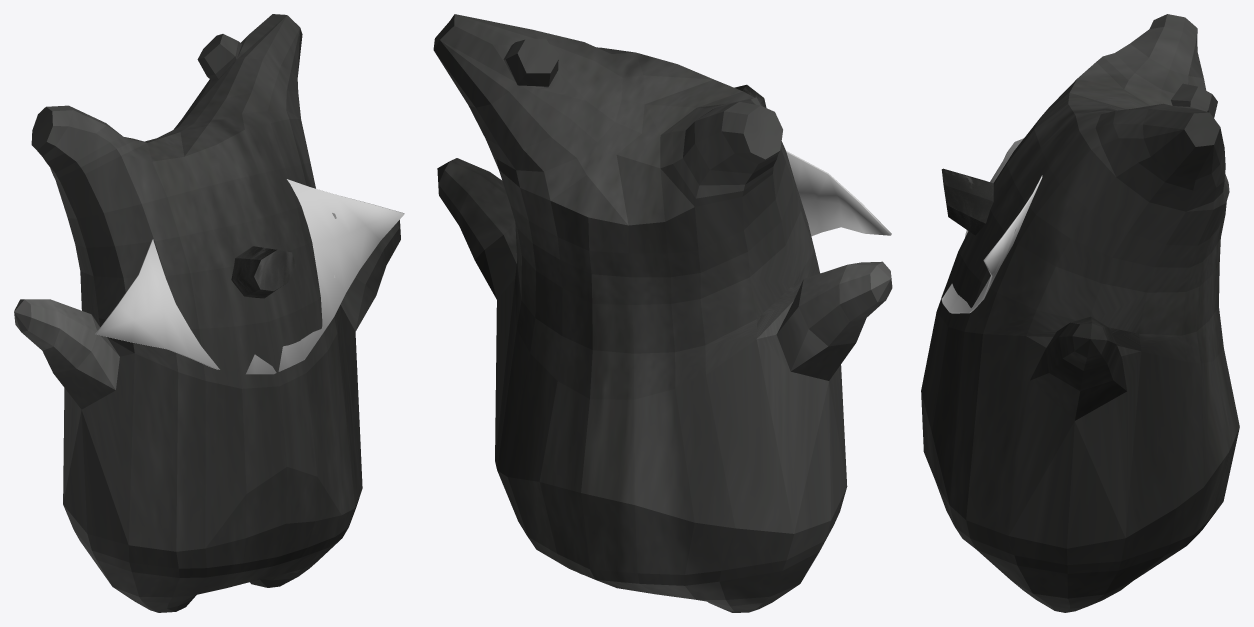
Rendered from frame_0026.obj.
The picture shows the model from 3 angles, left to right: view 1: azimuth 30°, elevation 25°; view 2: azimuth 150°, elevation 25°; view 3: azimuth 270°, elevation 25°; orthographic projection. The views are drawn at different scales.
Visible parts, largest first — view 1: korok, leaf, nose; view 2: korok, leaf; view 3: korok, nose, leaf.
Boxes of the visible parts, bbox=[...] form: korok: bbox=[14, 14, 400, 612]; leaf: bbox=[95, 179, 404, 374]; nose: bbox=[231, 246, 296, 298]; korok: bbox=[433, 14, 892, 612]; leaf: bbox=[786, 151, 891, 236]; korok: bbox=[921, 14, 1239, 612]; nose: bbox=[941, 168, 993, 235]; leaf: bbox=[941, 138, 1042, 313].
Bounding box in the file's own units: 1.71 × 2.15 × 1.16.
